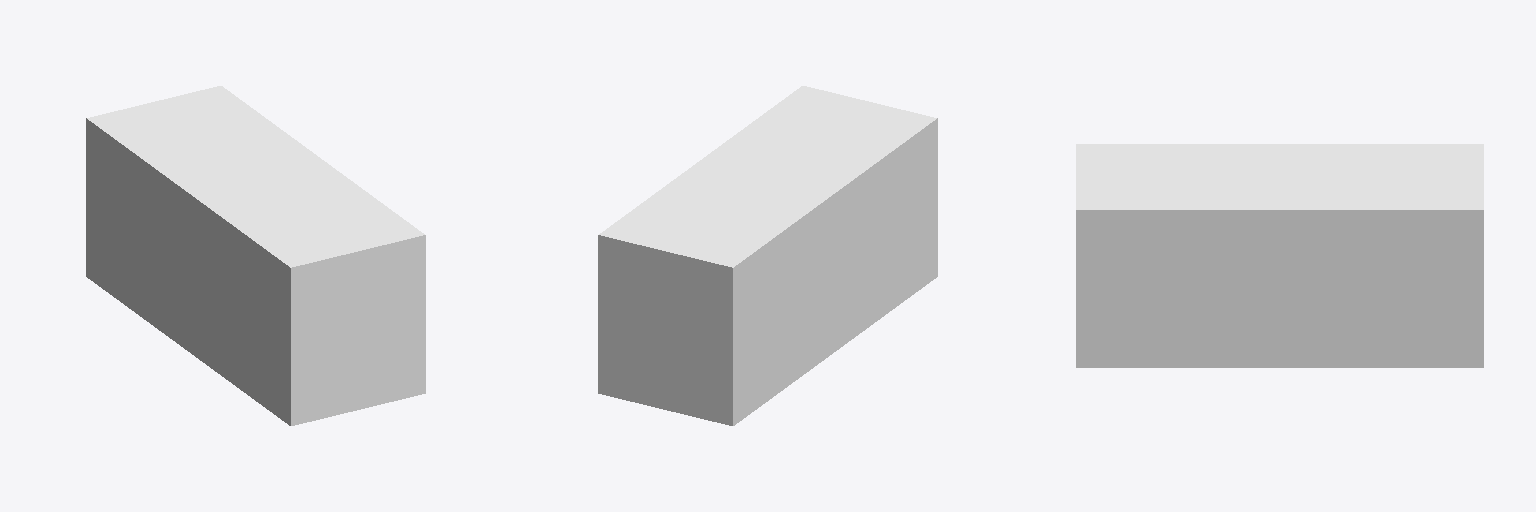
The model's file is container_green.obj.
The picture shows the model from 3 angles: view 1: azimuth 30°, elevation 25°; view 2: azimuth 150°, elevation 25°; view 3: azimuth 270°, elevation 25°; orthographic projection.
Parts seen in each view (by area): view 1: container_green; view 2: container_green; view 3: container_green.
Boxes of the visible parts, box(x1,y1,x2,y2) form: container_green: box(86, 86, 425, 425); container_green: box(598, 86, 937, 425); container_green: box(1076, 144, 1483, 367).
Bounding box in the file's own units: 8 × 9 × 21.